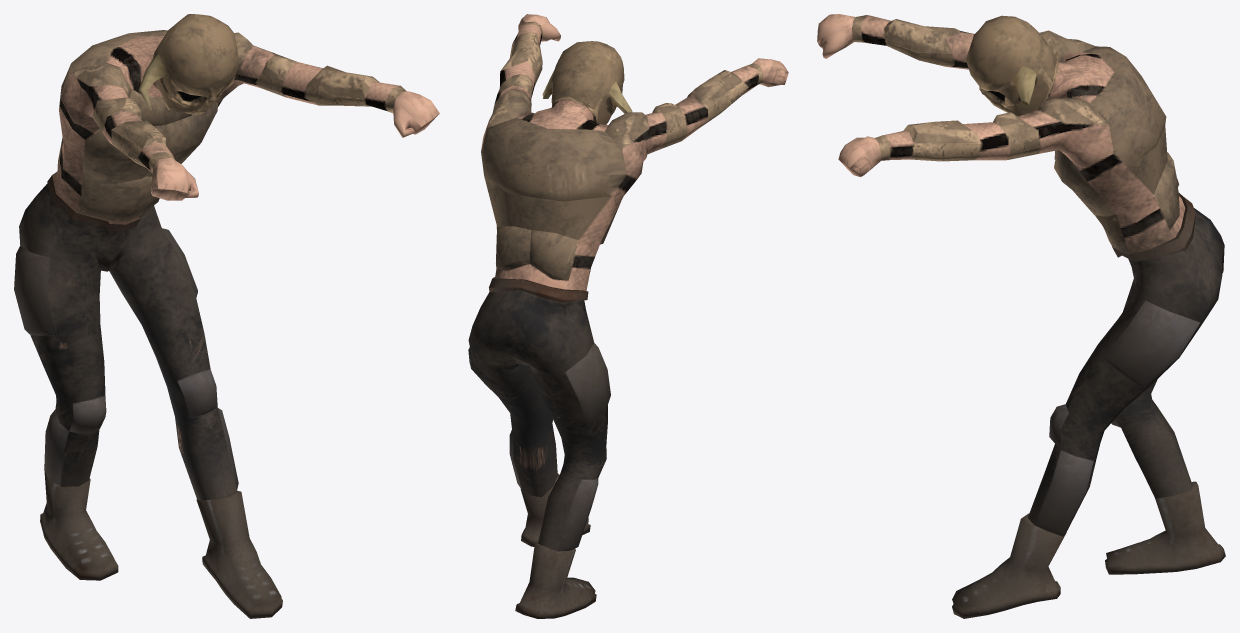
Rendered from Anim_ataque_d3_npc1.0044.obj.
The picture shows the model from 3 angles, left to right: view 1: azimuth 30°, elevation 25°; view 2: azimuth 150°, elevation 25°; view 3: azimuth 270°, elevation 25°; orthographic projection. The views are drawn at different scales.
Visible parts, largest first — view 1: NPC2; view 2: NPC2; view 3: NPC2.
Boxes of the visible parts, x1,y1,x2,y2 form: NPC2: [14, 14, 439, 618]; NPC2: [468, 14, 788, 618]; NPC2: [817, 14, 1225, 618].
Size of the model in its own units: 4.5 by 8.5 by 5.49.
